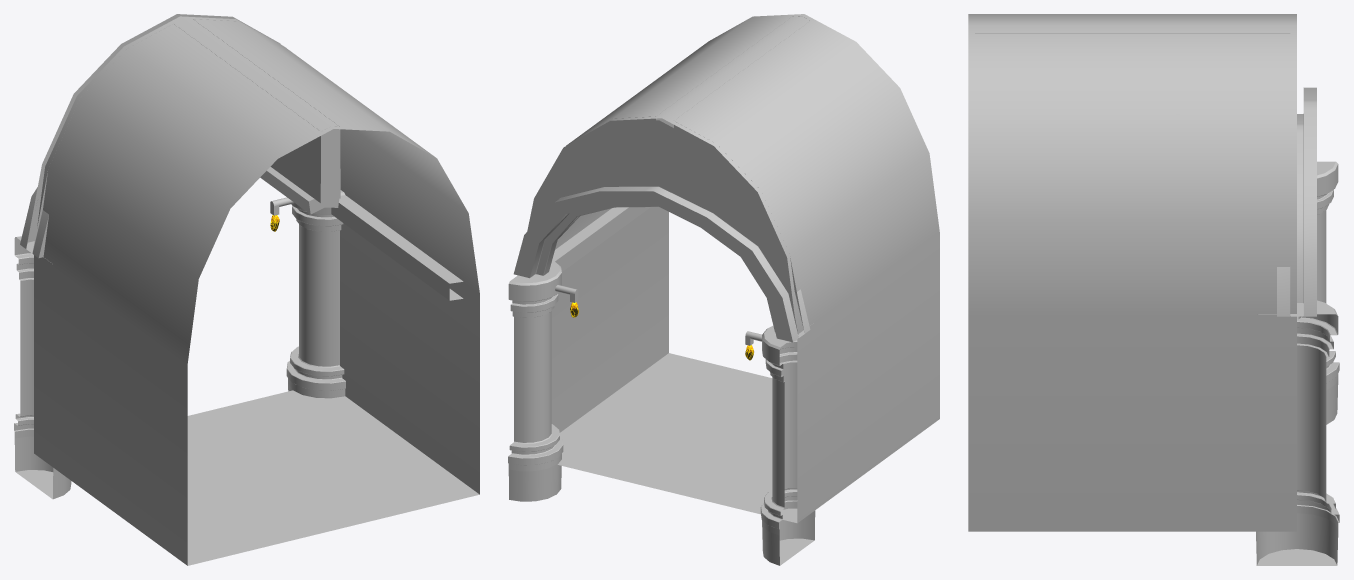
The model's file is tunnel.fbx.
The picture shows the model from 3 angles, left to right: view 1: azimuth 30°, elevation 25°; view 2: azimuth 150°, elevation 25°; view 3: azimuth 270°, elevation 25°; orthographic projection. The views are drawn at different scales.
Parts seen in each view (by area): view 1: roof, pillar, roofArch, pillar1; view 2: roof, roofArch, pillar, pillar1; view 3: roof, pillar, roofArch, pillar1.
Boxes of the visible parts, x1,y1,x2,y2 form: roof: (34, 16, 479, 565); pillar: (286, 190, 463, 398); roofArch: (20, 14, 340, 258); pillar1: (14, 236, 71, 499); roof: (551, 14, 939, 523); roofArch: (513, 16, 810, 342); pillar: (508, 207, 650, 501); pillar1: (760, 323, 815, 565); roof: (968, 14, 1296, 531); pillar: (1256, 300, 1339, 565); roofArch: (975, 33, 1316, 316); pillar1: (1317, 161, 1339, 424).
Bounding box in the file's own units: 4.53 × 6.23 × 4.52.
